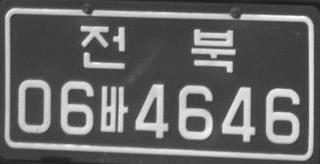0: (17, 78, 51, 133)
4: (221, 87, 256, 143), (135, 83, 169, 138)
6: (264, 87, 300, 143), (177, 84, 213, 139), (60, 79, 94, 135)
바: (100, 85, 128, 133)
전북_D: (80, 25, 236, 72)
